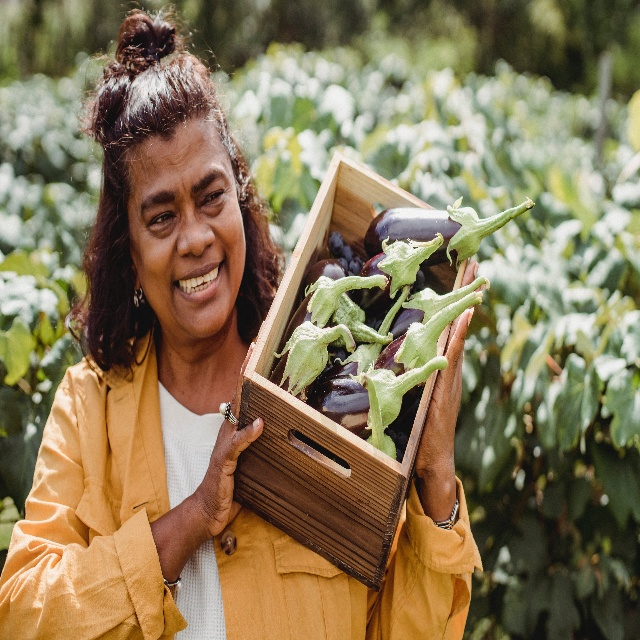Sin_guantes: (415, 259, 487, 482), (198, 322, 265, 532)
